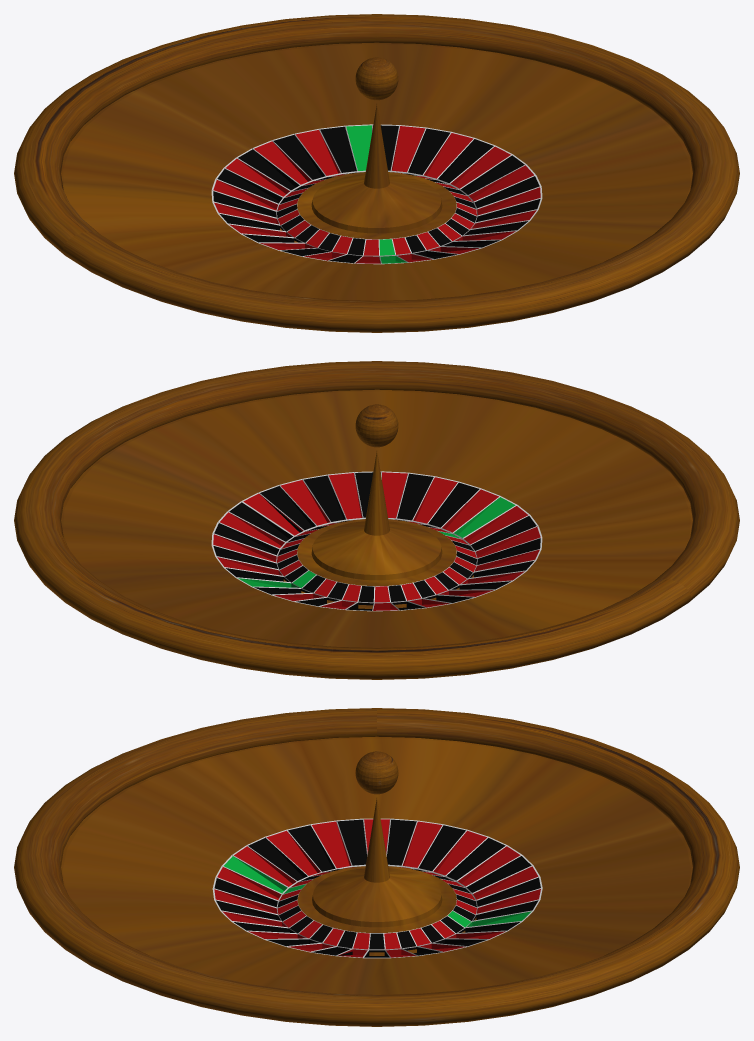
3 views of the same model, one above another, from view 1: azimuth 30°, elevation 25°; view 2: azimuth 150°, elevation 25°; view 3: azimuth 270°, elevation 25° (orthographic).
Parts seen in each view (by area): view 1: 円柱, トーラス, 球; view 2: 円柱, トーラス, 球; view 3: 円柱, トーラス, 球.
Boxes of the visible parts, x1=… form: 円柱: x1=61, y1=42, x2=692, y2=300; トーラス: x1=14, y1=14, x2=739, y2=332; 球: x1=355, y1=57, x2=398, y2=100; 円柱: x1=61, y1=389, x2=692, y2=647; トーラス: x1=14, y1=361, x2=739, y2=679; 球: x1=355, y1=404, x2=398, y2=447; 円柱: x1=61, y1=736, x2=692, y2=994; トーラス: x1=14, y1=708, x2=739, y2=1026; 球: x1=355, y1=751, x2=398, y2=794.
Bounding box in the file's own units: 1011 × 333 × 1011.
5 materials, 1 textured.
